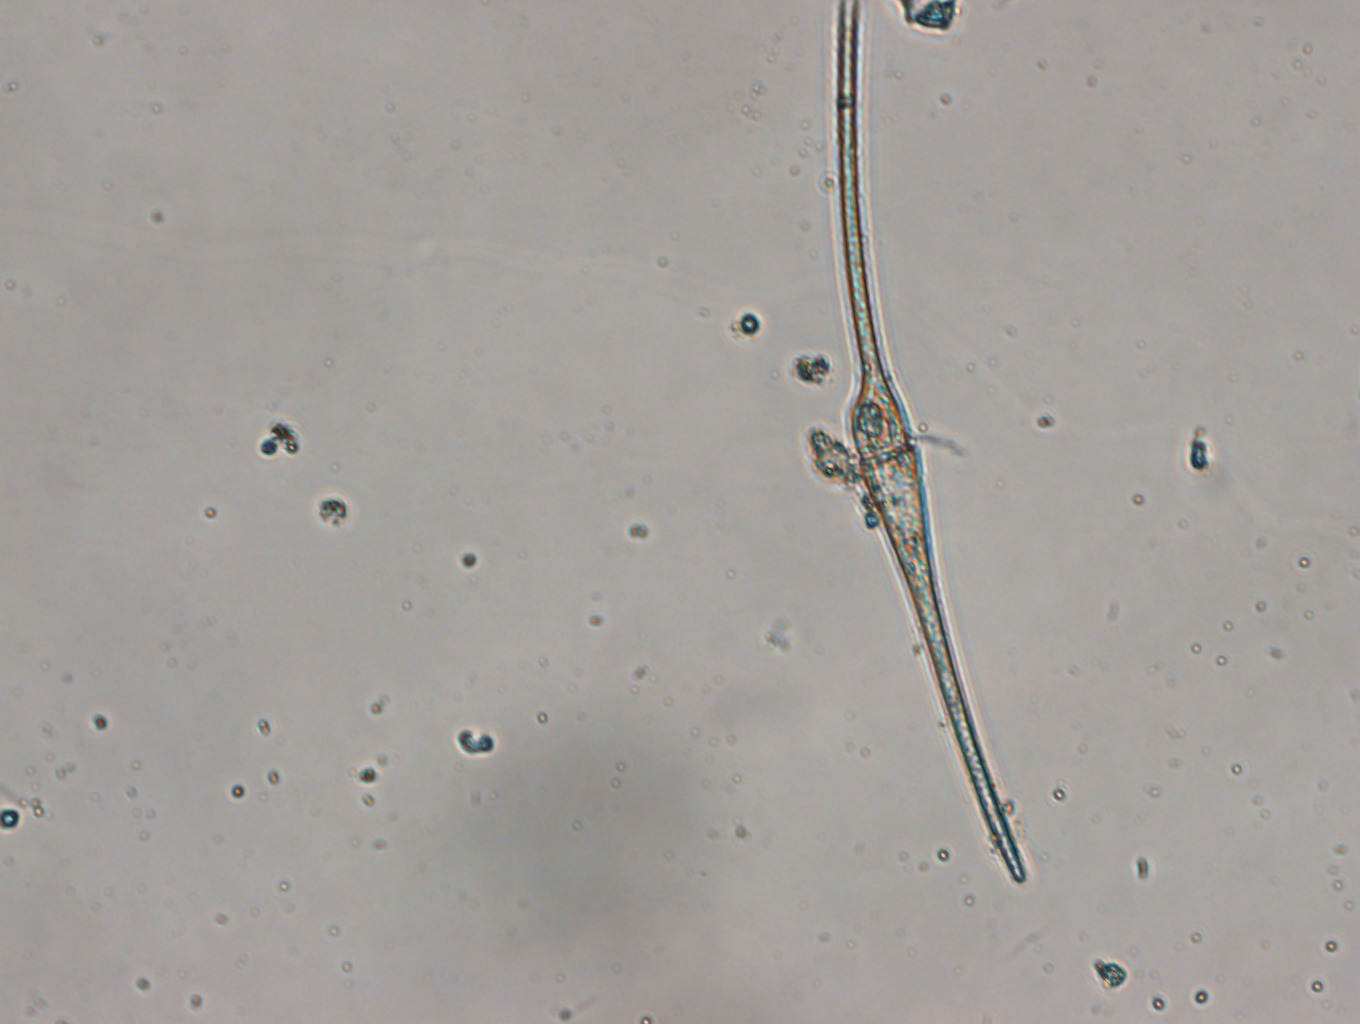ceratium fusus: (836, 1, 1027, 883)
